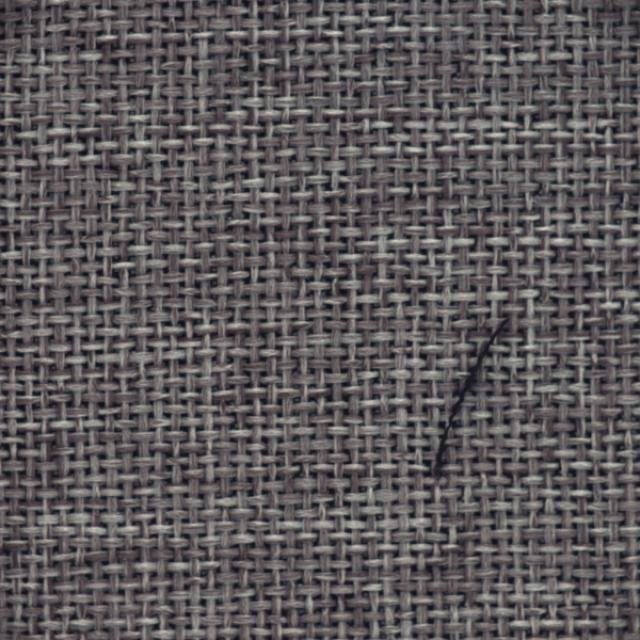Thread: (427, 312, 513, 481)
